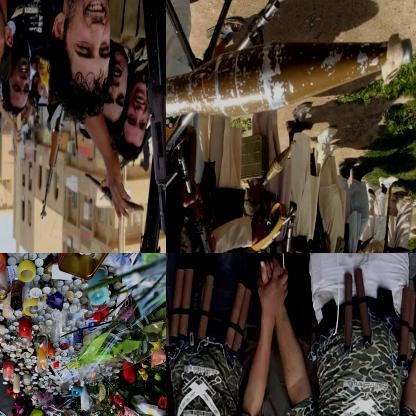rifle: (166, 10, 409, 152), (134, 0, 165, 252), (174, 143, 220, 252), (37, 103, 67, 221), (235, 204, 300, 252), (78, 170, 143, 217)
